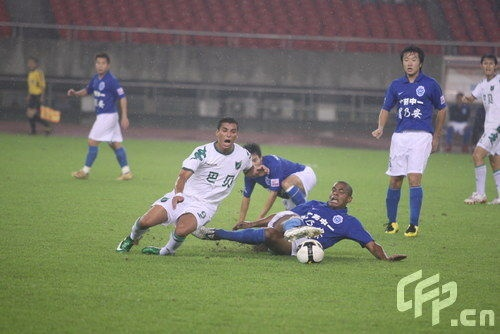falling: (232, 141, 326, 220)
